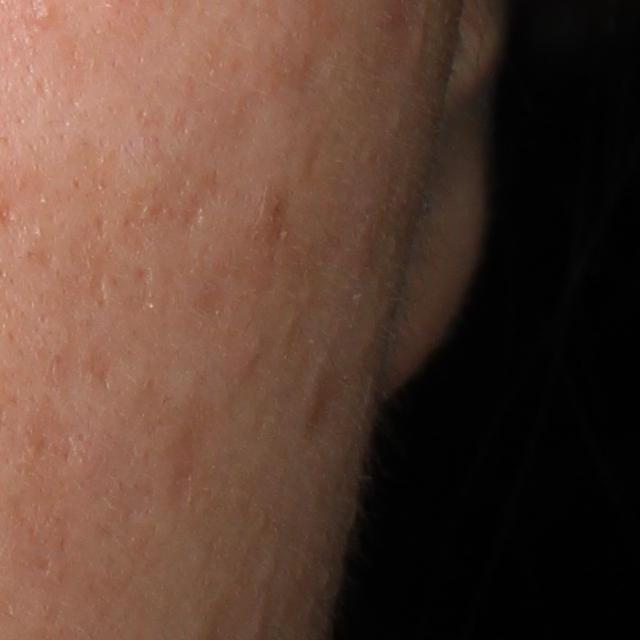atrophic_scar: (23, 399, 90, 486), (177, 166, 229, 231), (86, 240, 111, 306)
comedo: (35, 3, 60, 26)
